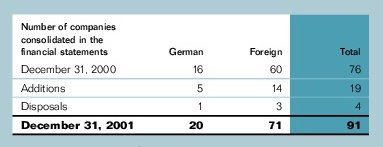table: (0, 0, 383, 147)
